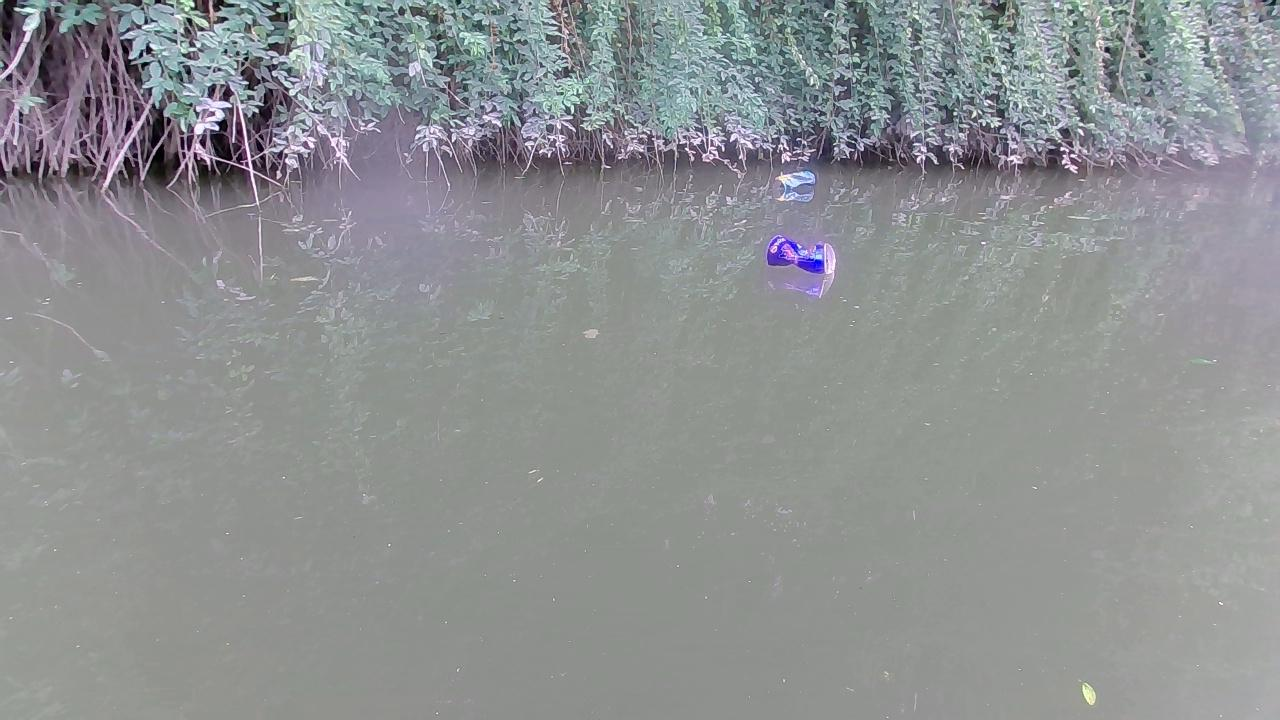Metal: (764, 233, 837, 276), (772, 169, 817, 192)
